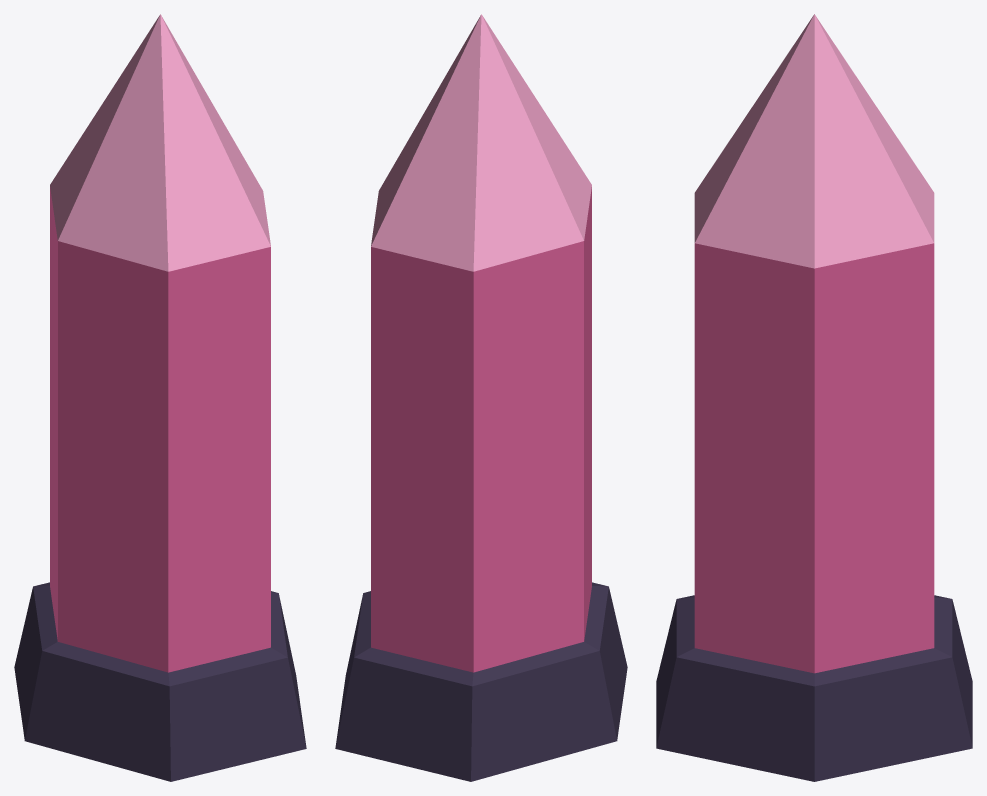
Rendered from env_r12_crystal_spike.glb.
The picture shows the model from 3 angles, left to right: view 1: azimuth 30°, elevation 25°; view 2: azimuth 150°, elevation 25°; view 3: azimuth 270°, elevation 25°; orthographic projection.
Parts seen in each view (by area): view 1: env_r12_crystal_spike; view 2: env_r12_crystal_spike; view 3: env_r12_crystal_spike.
Part boxes in pixels (x1,y1,x2,y2): env_r12_crystal_spike: (14, 14, 306, 781); env_r12_crystal_spike: (335, 14, 627, 781); env_r12_crystal_spike: (656, 14, 972, 781).
Size of the model in its own units: 0.9 by 2.2 by 0.9.
Materials: 1 (1 with a texture image).
